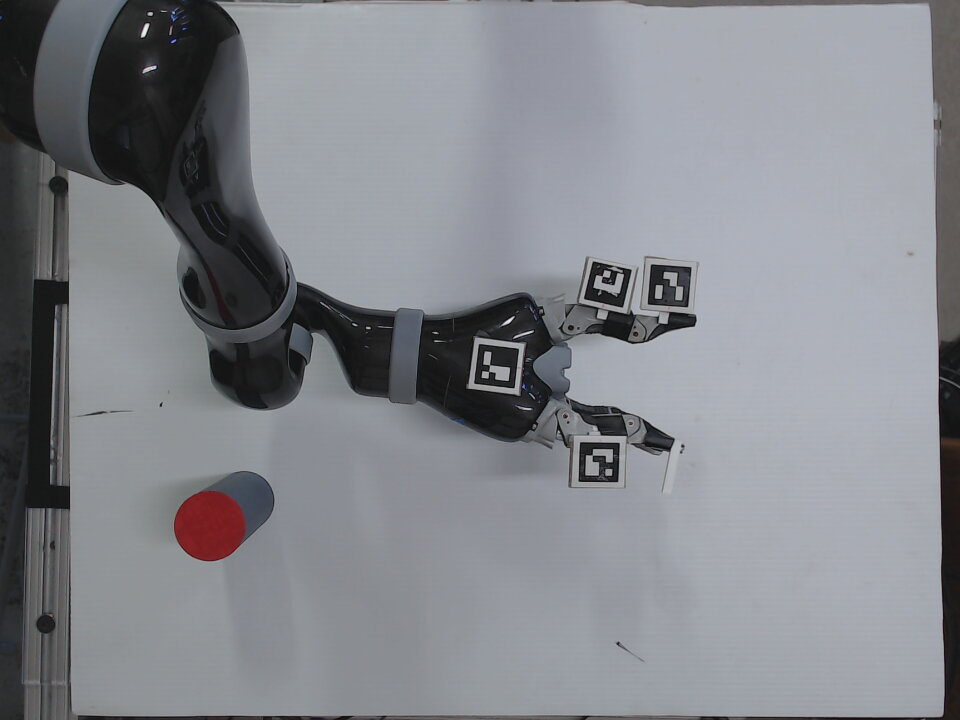cylinder: (171, 469, 277, 563)
